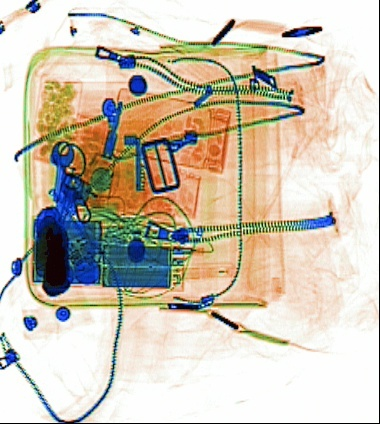powerbank: (28, 211, 188, 289)
